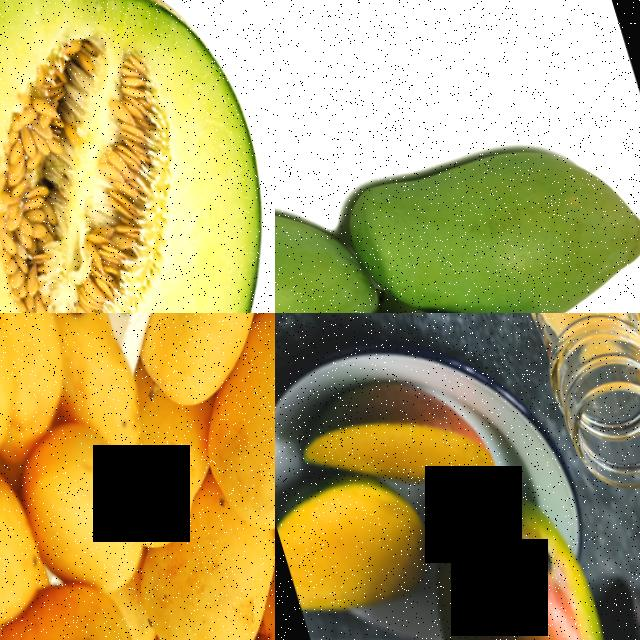mango: (339, 93, 640, 313), (397, 451, 615, 640), (172, 313, 275, 537), (119, 504, 275, 640), (92, 313, 275, 417)
melon: (0, 0, 275, 313)
